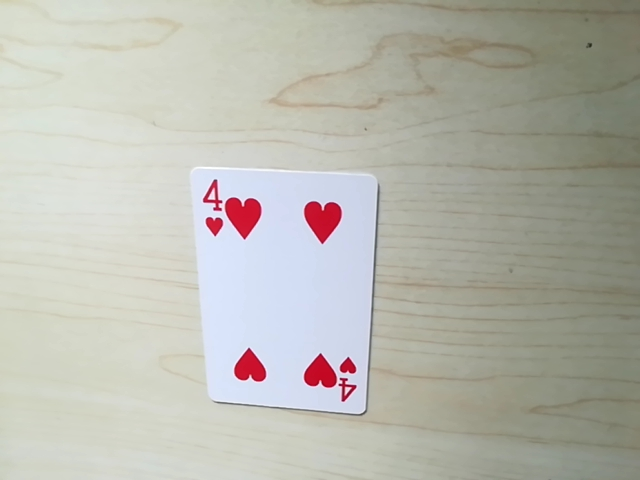hx 4: (199, 183, 240, 239), (325, 354, 365, 407)
